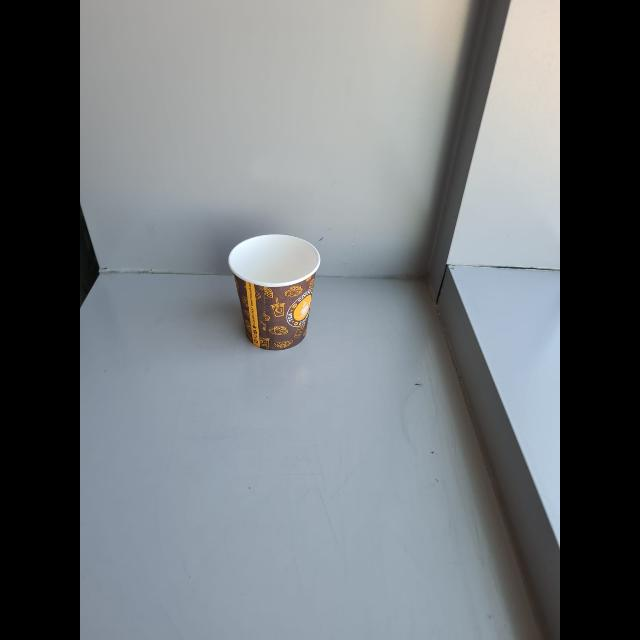trash: (228, 230, 322, 350)
